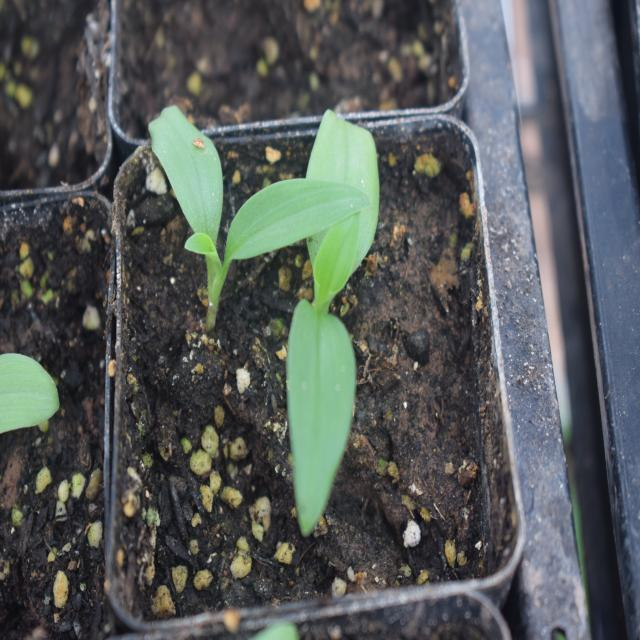Common Dayflower: (262, 111, 384, 535), (157, 106, 300, 324)
